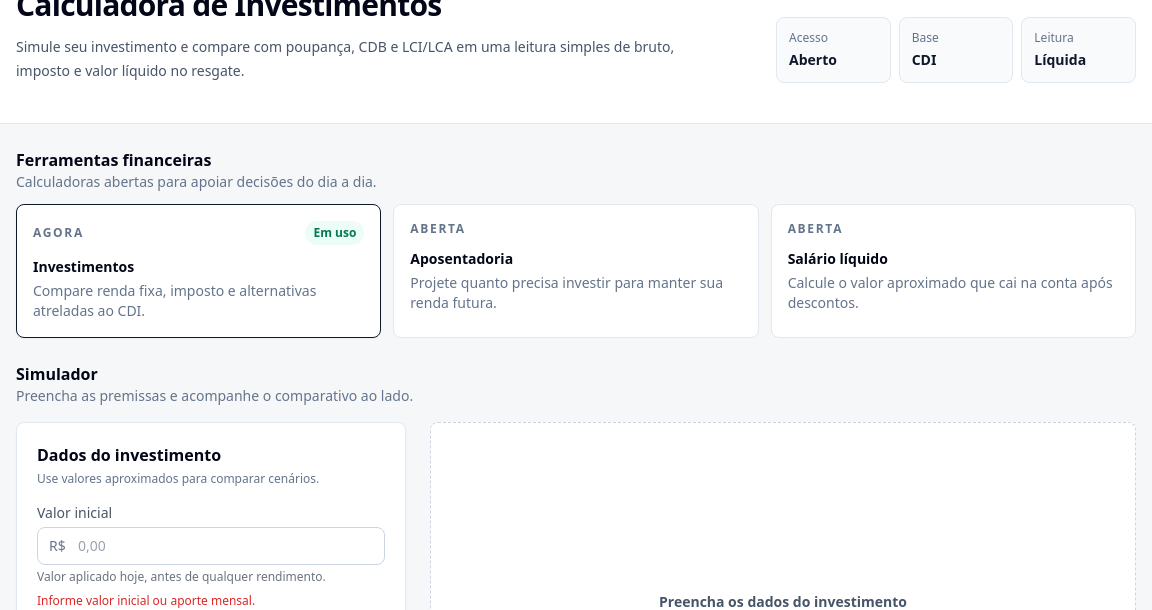
Test: InvestimentosPage › shows validation error beside active empty rate field
The width and height of the screenshot is (1152, 610).
Type "10.000,00" into the field labelled "Valor inicial". click: (211, 546)
box: [37, 527, 385, 565]
(page scrolled)
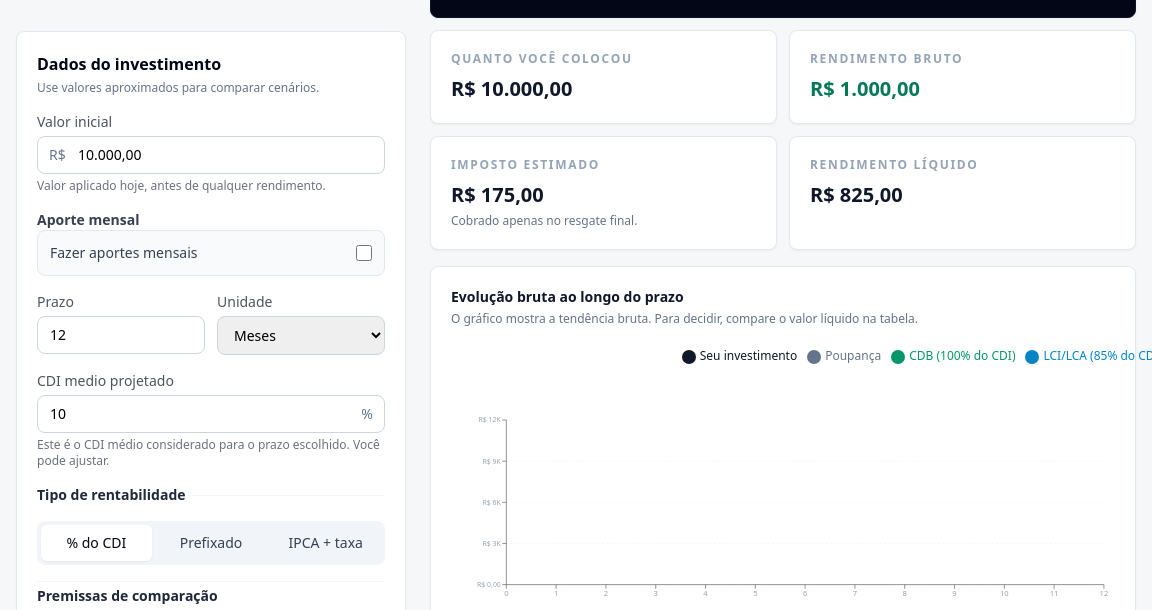
Replace the text in the field labelled "CDI medio projetado" with "10,65". click: (211, 414)
box: [37, 395, 385, 433]
(page scrolled)
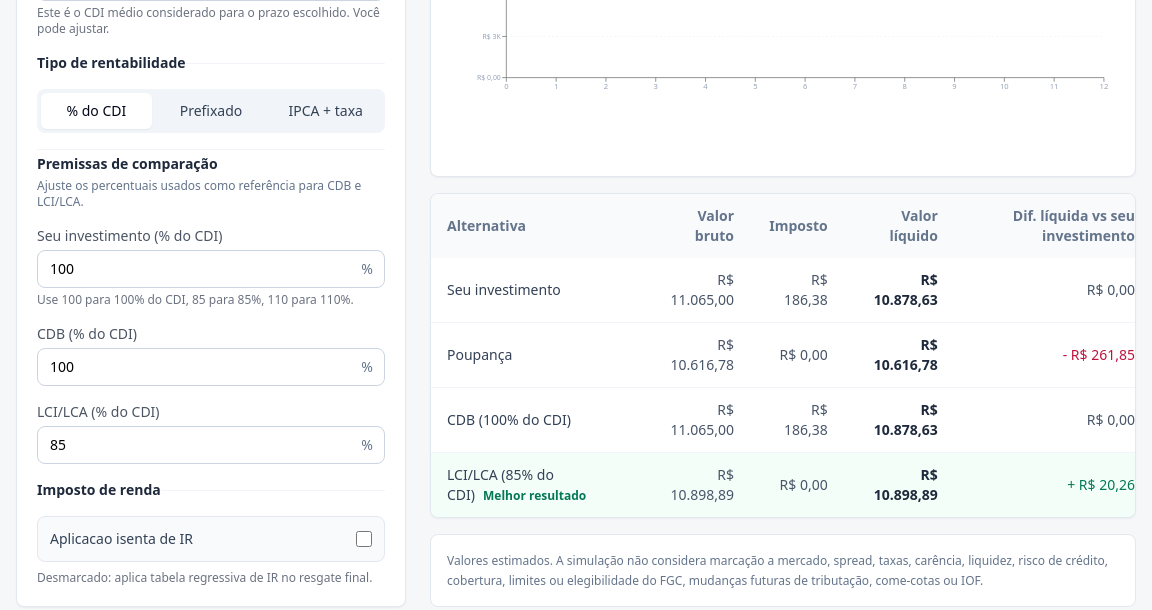
Clear the field named "% do CDI do CDB". click: (211, 367)
box: [37, 348, 385, 386]
(page scrolled)
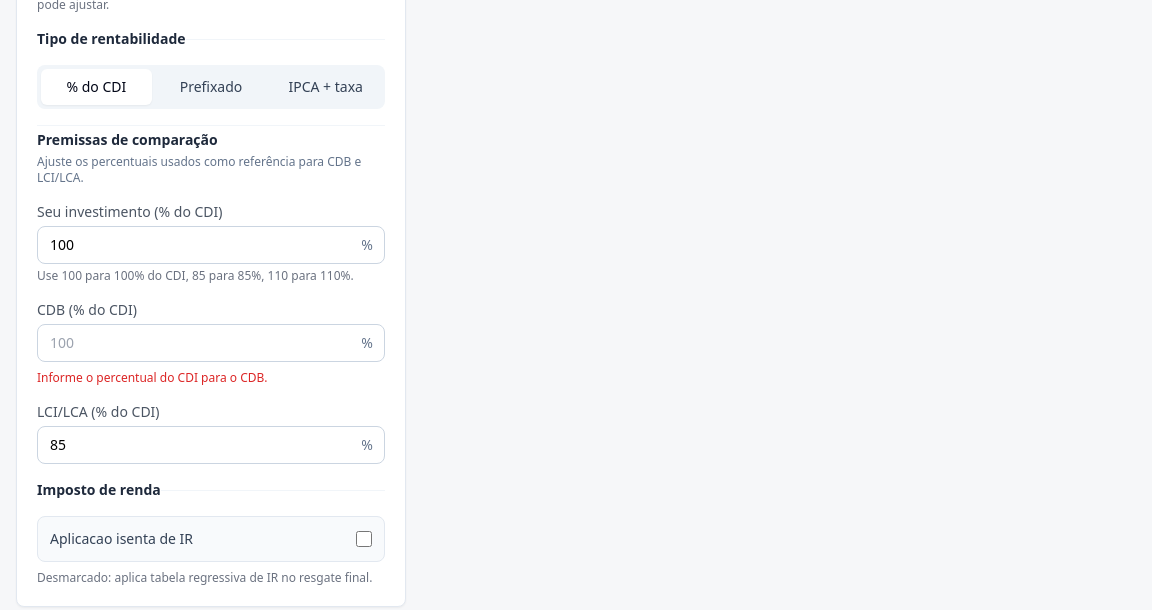
Click the radio button labelled "Prefixado". click: (211, 86)
box: [180, 77, 242, 96]
(page scrolled)
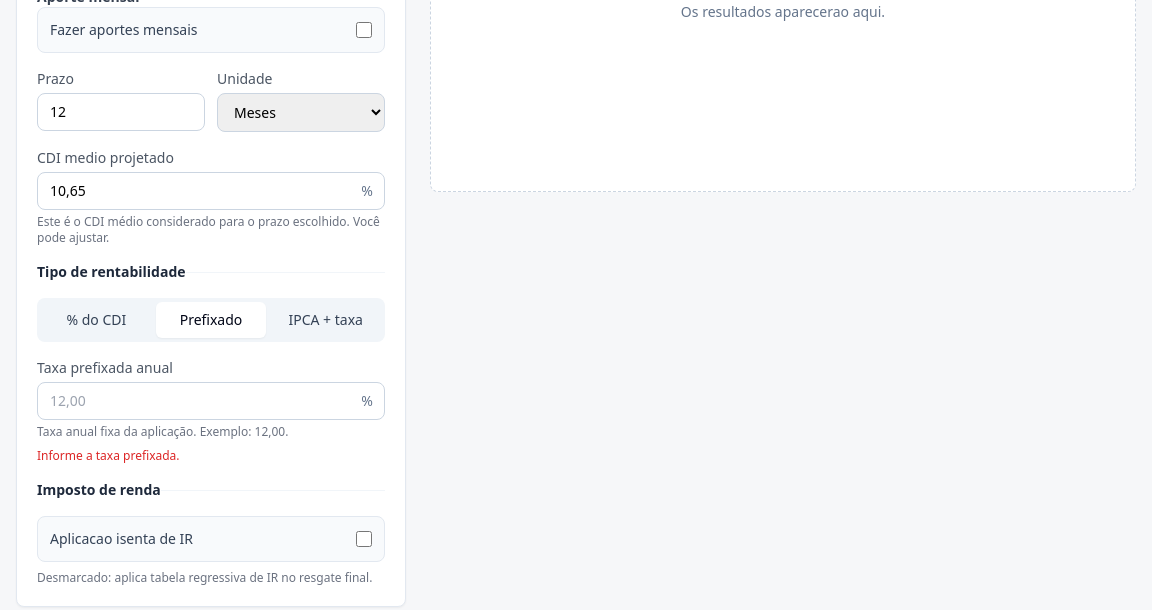
Expected: the text "Informe a taxa prefixada." is shown, [37, 447, 180, 464]
